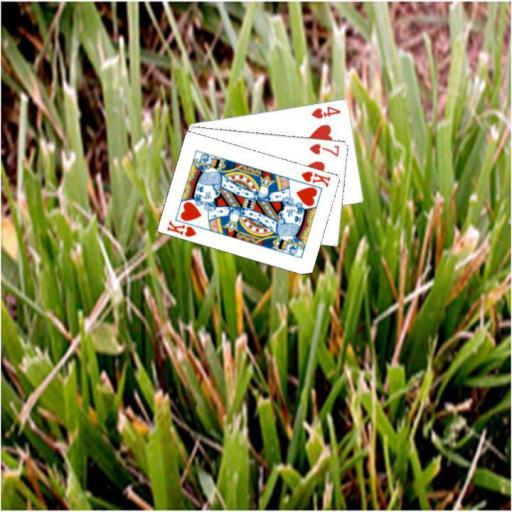4H: (309, 103, 342, 121)
7H: (306, 140, 341, 158)
KH: (165, 217, 199, 238), (298, 168, 332, 188)
